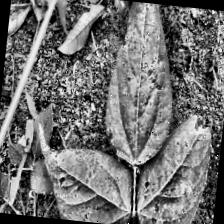ALS: (102, 0, 187, 156), (29, 128, 137, 224), (130, 111, 212, 224)
